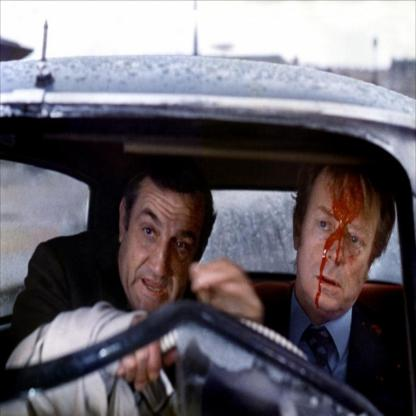face: (124, 192, 198, 315), (303, 171, 367, 305)
